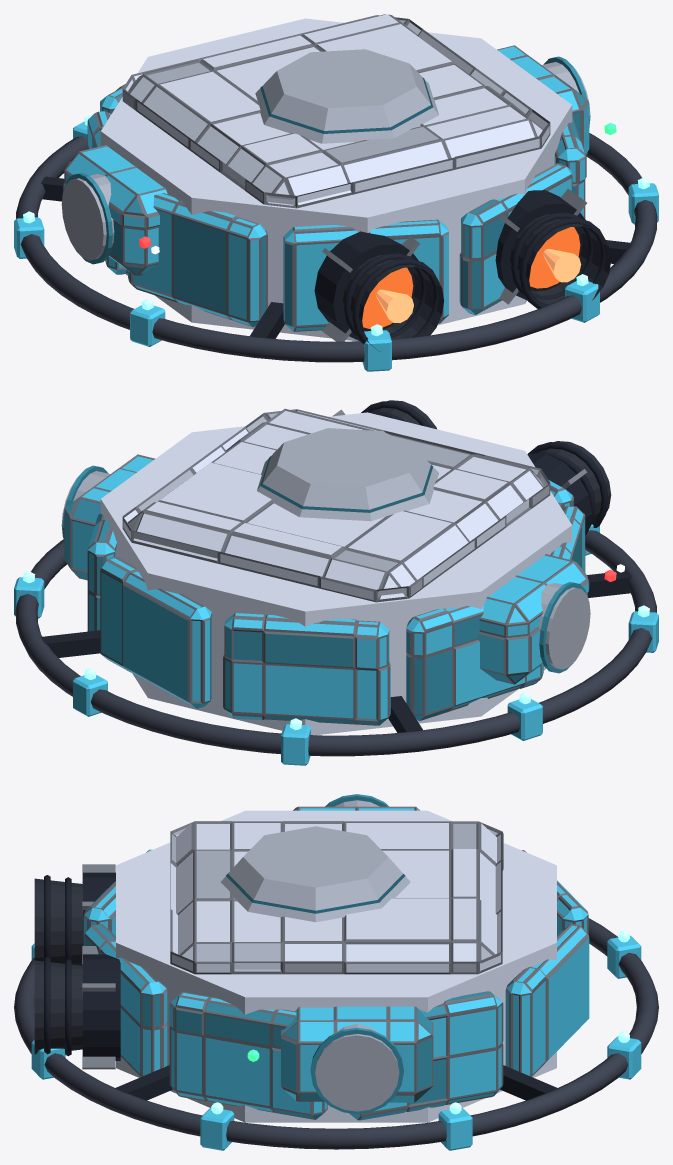
The model's file is aegis.glb.
The picture shows the model from 3 angles, top to bottom: view 1: azimuth 30°, elevation 25°; view 2: azimuth 150°, elevation 25°; view 3: azimuth 270°, elevation 25°; orthographic projection.
Parts seen in each view (by area): view 1: aegis_mesh; view 2: aegis_mesh; view 3: aegis_mesh.
Boxes of the visible parts, x1,y1,x2,y2 form: aegis_mesh: (14, 14, 658, 371); aegis_mesh: (14, 400, 658, 765); aegis_mesh: (14, 794, 658, 1150).
Size of the model in its own units: 9.32 by 3.08 by 9.32.
